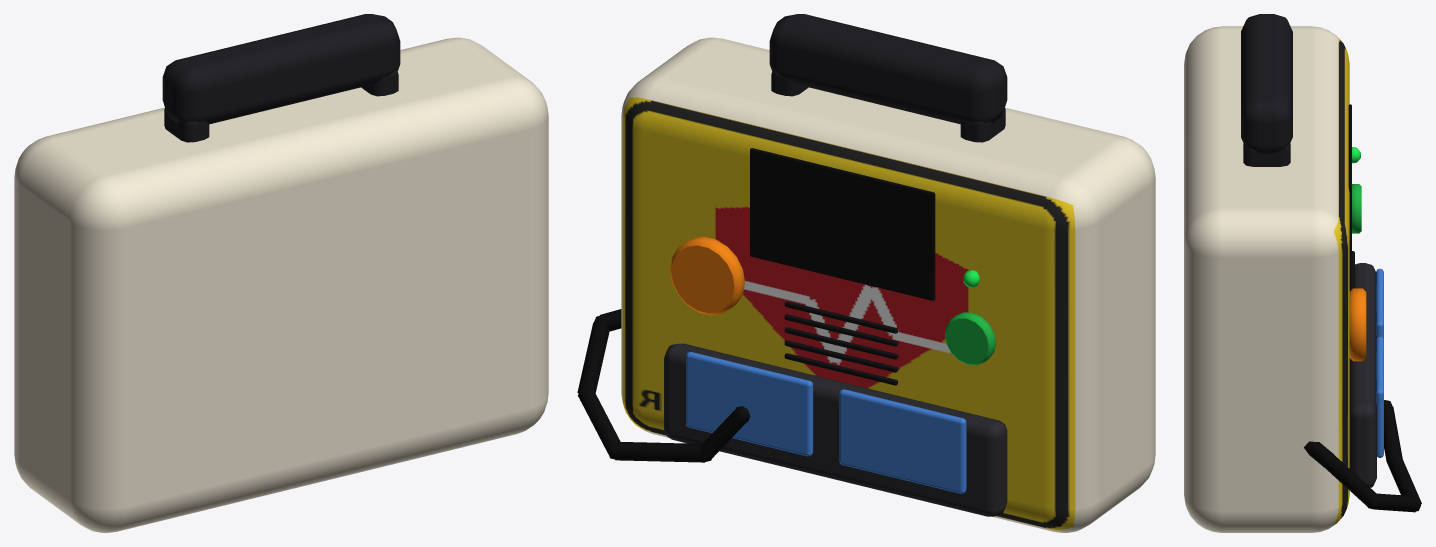
The model's file is Defibrillator.obj.
3 views of the same model, side by side, from view 1: azimuth 30°, elevation 25°; view 2: azimuth 150°, elevation 25°; view 3: azimuth 270°, elevation 25° (orthographic). The views are drawn at different scales.
Bounding box in the file's own units: 0.2206 × 0.179 × 0.1005.
